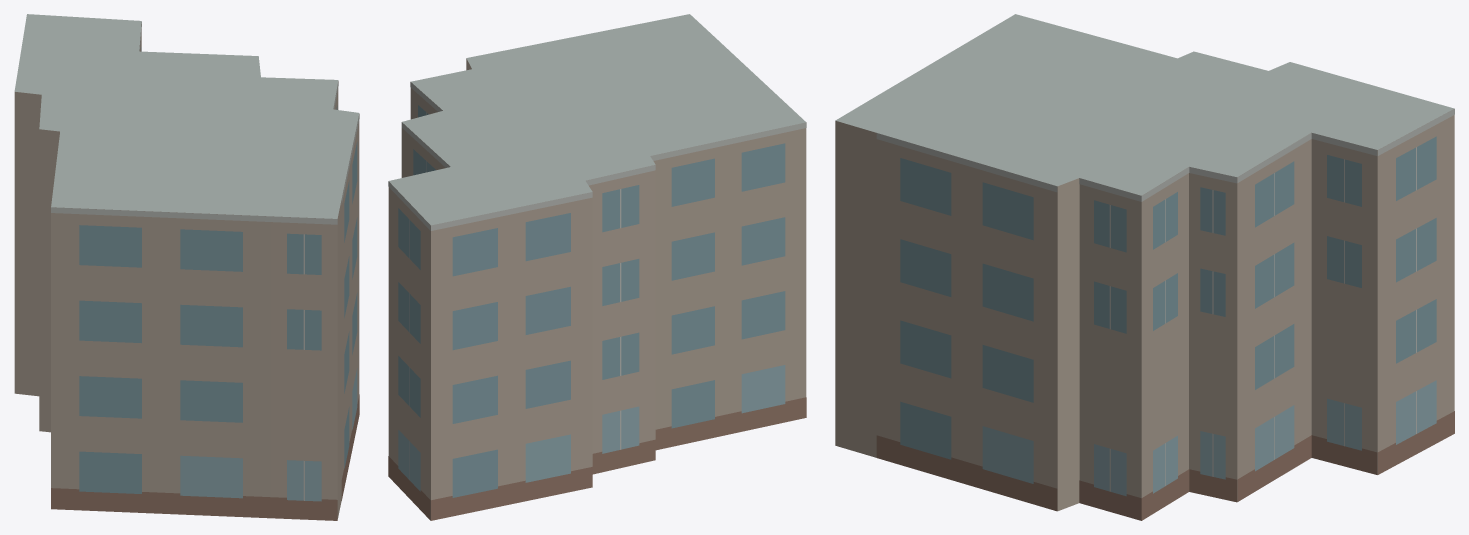
File: survey-upis-32583246.glb
3 views of the same model, side by side, from view 1: azimuth 30°, elevation 25°; view 2: azimuth 150°, elevation 25°; view 3: azimuth 270°, elevation 25° (orthographic). The views are drawn at different scales.
Visible parts, largest first — view 1: survey-upis-32583246.tmp; view 2: survey-upis-32583246.tmp; view 3: survey-upis-32583246.tmp.
Part boxes in pixels (box(x1,y1,x2,y2)): survey-upis-32583246.tmp: box(14, 14, 359, 520); survey-upis-32583246.tmp: box(388, 14, 806, 520); survey-upis-32583246.tmp: box(835, 14, 1454, 520).
Bounding box in the file's own units: 15.36 × 12.8 × 22.12.
